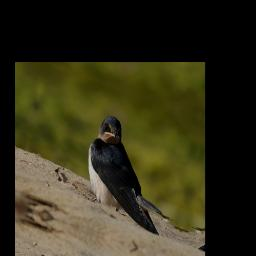Swallow: (76, 110, 190, 239)
